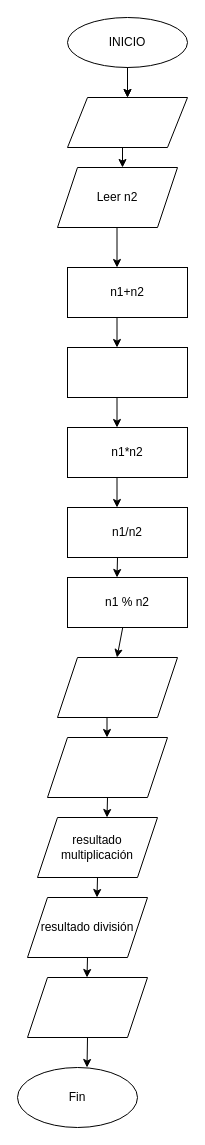
Image size: 205x1145. Some labels were removed from this diagram. Here are the shapes that lost their labels. From the top down, the box of each, then its label:
(66, 96, 188, 148): Leer n1
(66, 346, 188, 398): n1-n2
(56, 656, 178, 718): resultado suma
(46, 736, 168, 798): resultado resta
(26, 976, 148, 1038): resultado módulo
